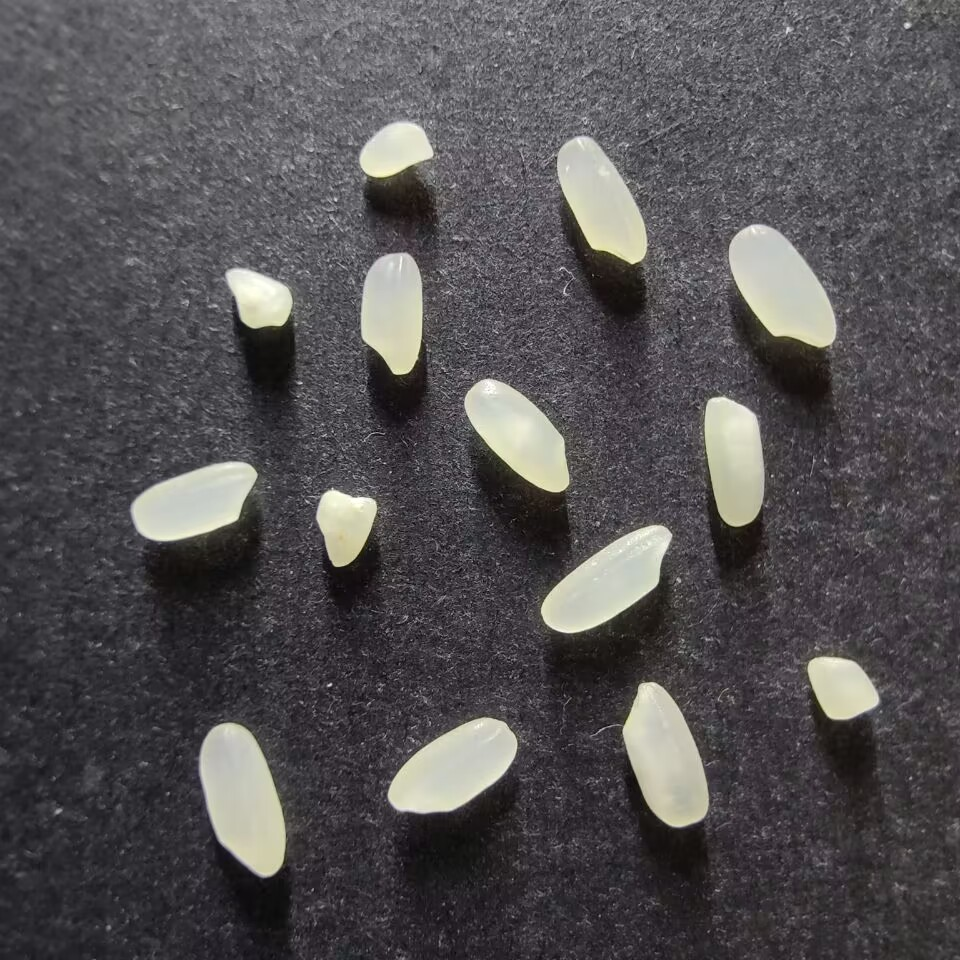broken: (805, 655, 880, 720), (315, 490, 377, 567), (223, 266, 293, 330), (358, 120, 432, 178)
rice: (540, 523, 671, 634), (727, 224, 838, 348), (198, 722, 285, 878), (386, 716, 518, 814), (621, 681, 709, 827), (463, 378, 570, 493), (555, 134, 648, 265), (130, 460, 258, 542), (703, 395, 766, 527), (359, 252, 423, 375)
